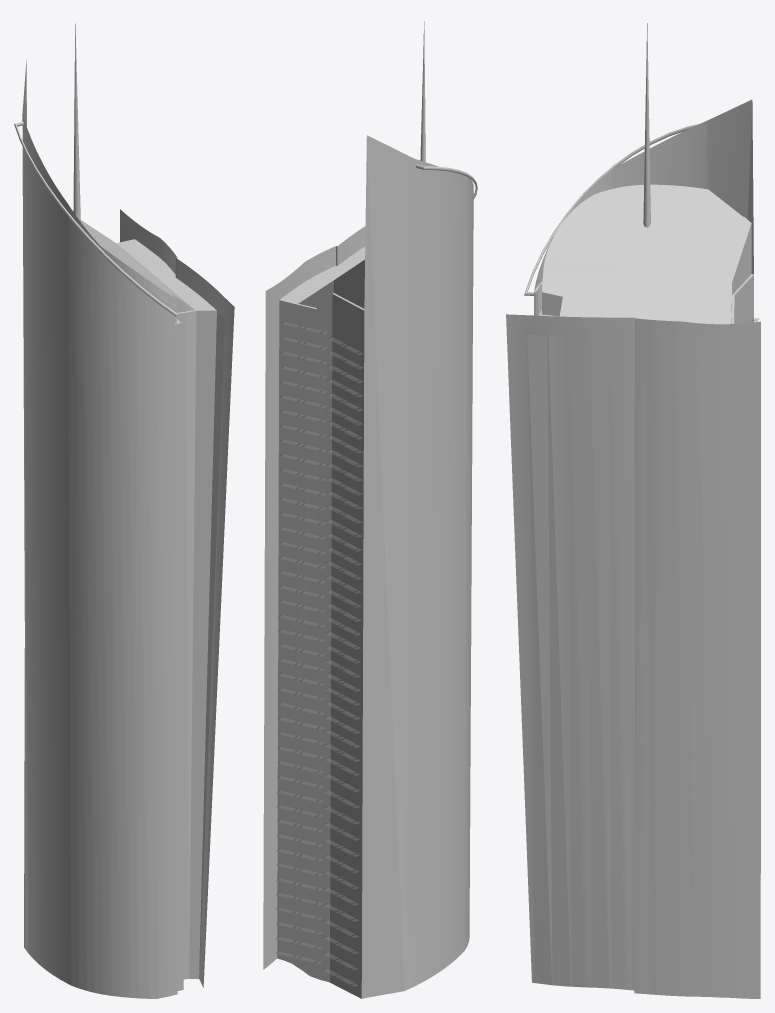
The model's file is AuroraPlace.fbx.
3 renders of one model, left to right at view 1: azimuth 30°, elevation 25°; view 2: azimuth 150°, elevation 25°; view 3: azimuth 270°, elevation 25°, orthographic.
Parts seen in each view (by area): view 1: Group1; view 2: Group1; view 3: Group1.
Boxes of the visible parts, x1,y1,x2,y2 form: Group1: (14, 23, 234, 998); Group1: (263, 21, 477, 998); Group1: (506, 23, 760, 998).
Bounding box in the file's own units: 42.1 × 269 × 65.98.
